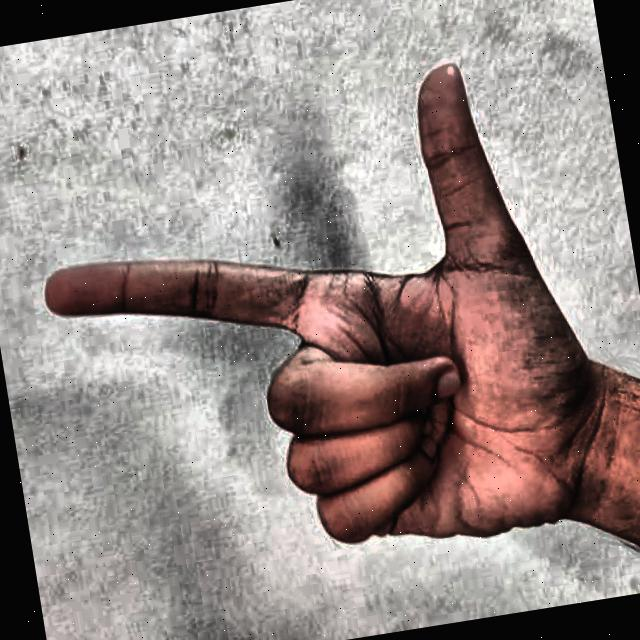Tha: (0, 18, 632, 629)
